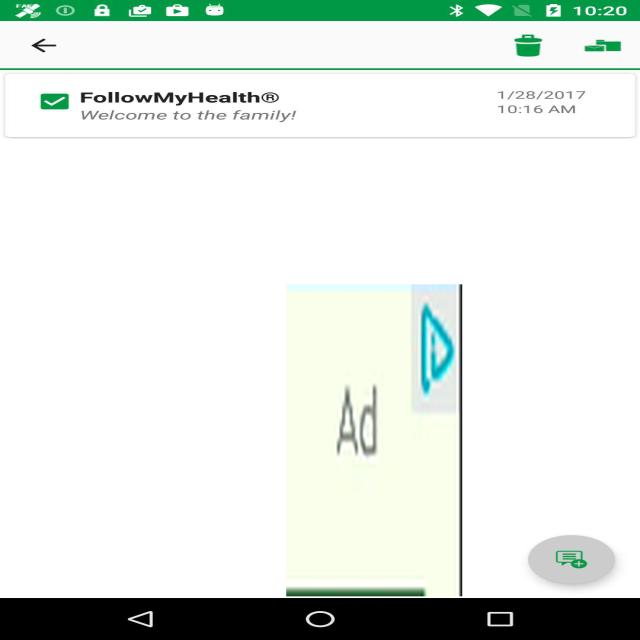sneaking: (286, 284, 462, 596)
